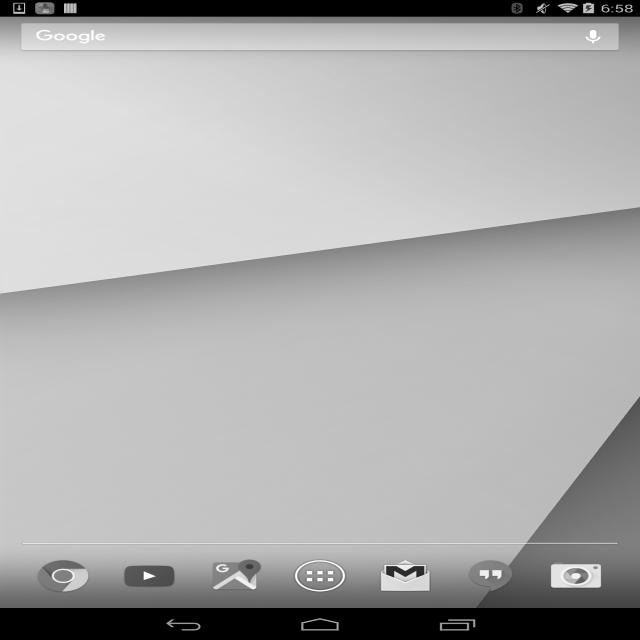EditText: (25, 24, 553, 48)
ImageButton: (39, 555, 92, 596), (122, 559, 176, 596), (379, 560, 436, 595), (298, 558, 351, 594), (205, 560, 259, 595), (468, 563, 519, 594), (550, 562, 604, 590), (571, 28, 611, 46)
